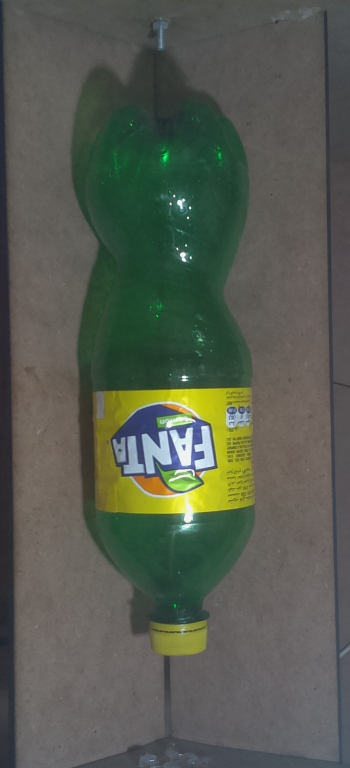Bouteille_1L: (74, 97, 271, 666)
